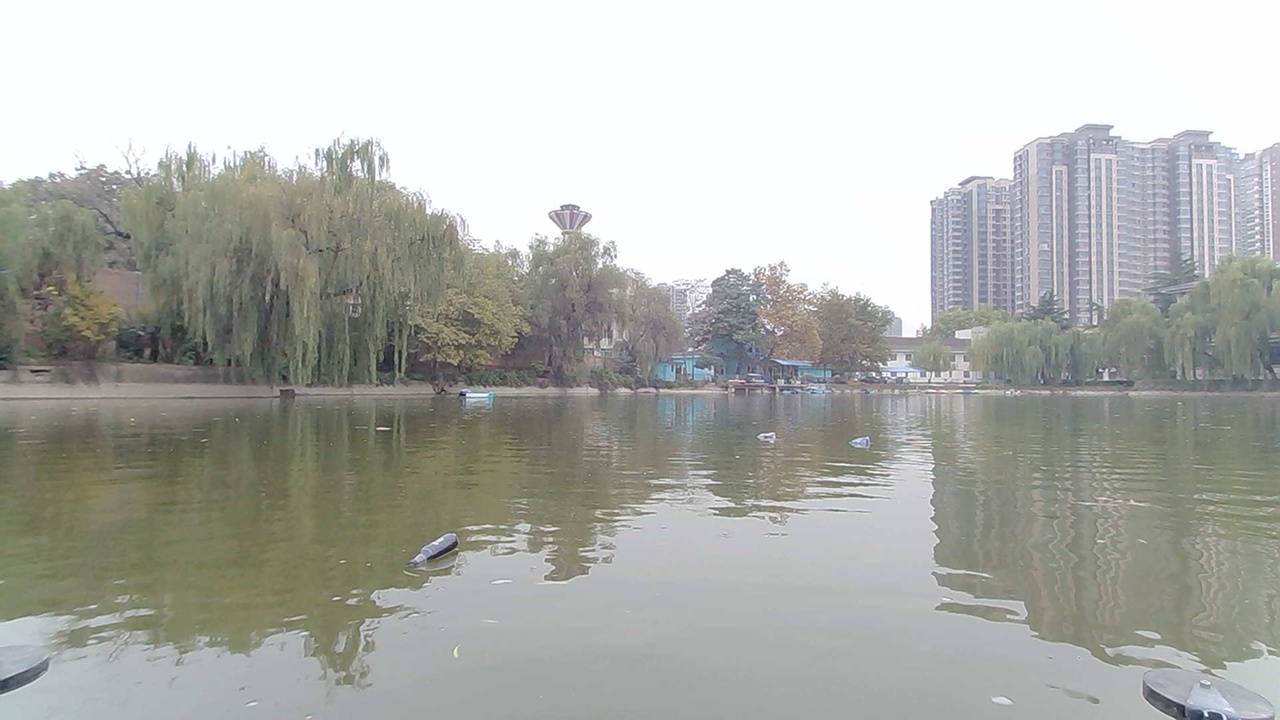bottle: (401, 529, 480, 579), (746, 420, 785, 446), (843, 434, 876, 451)
